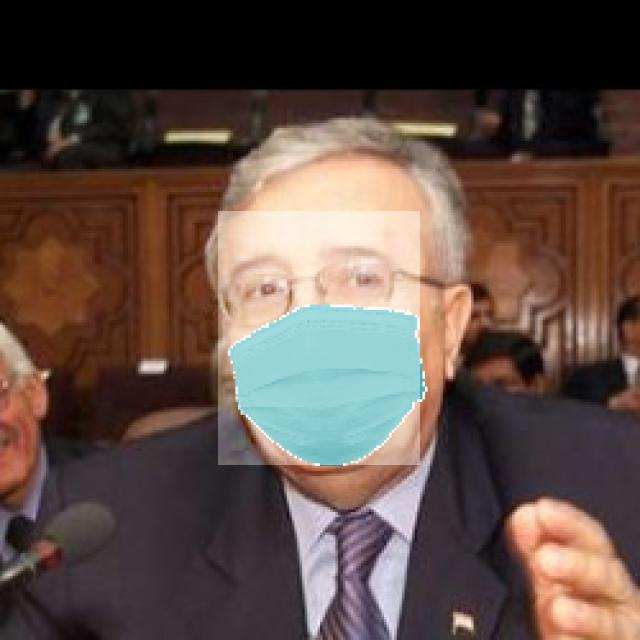surgical: (219, 211, 421, 465)
